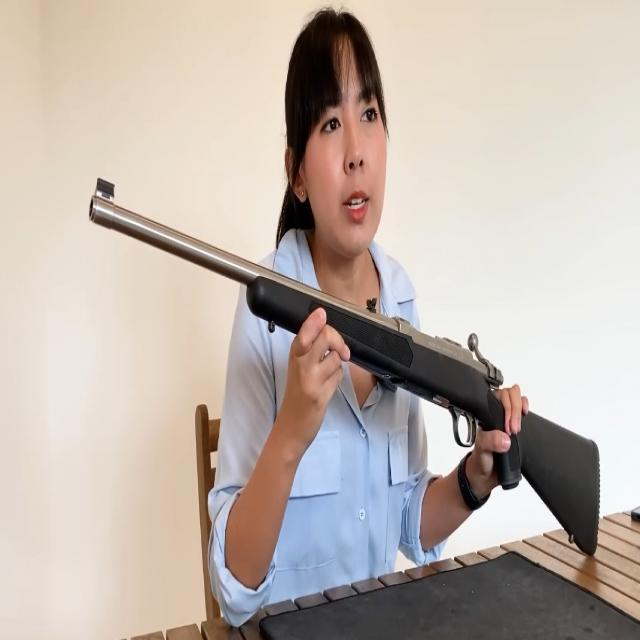rifle: (76, 166, 604, 566)
